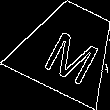M_NE: (35, 16, 102, 82)
